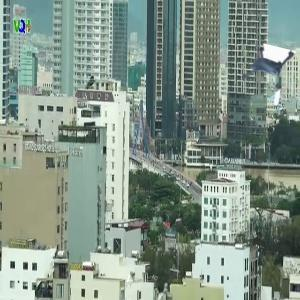drone: (231, 45, 293, 107)
